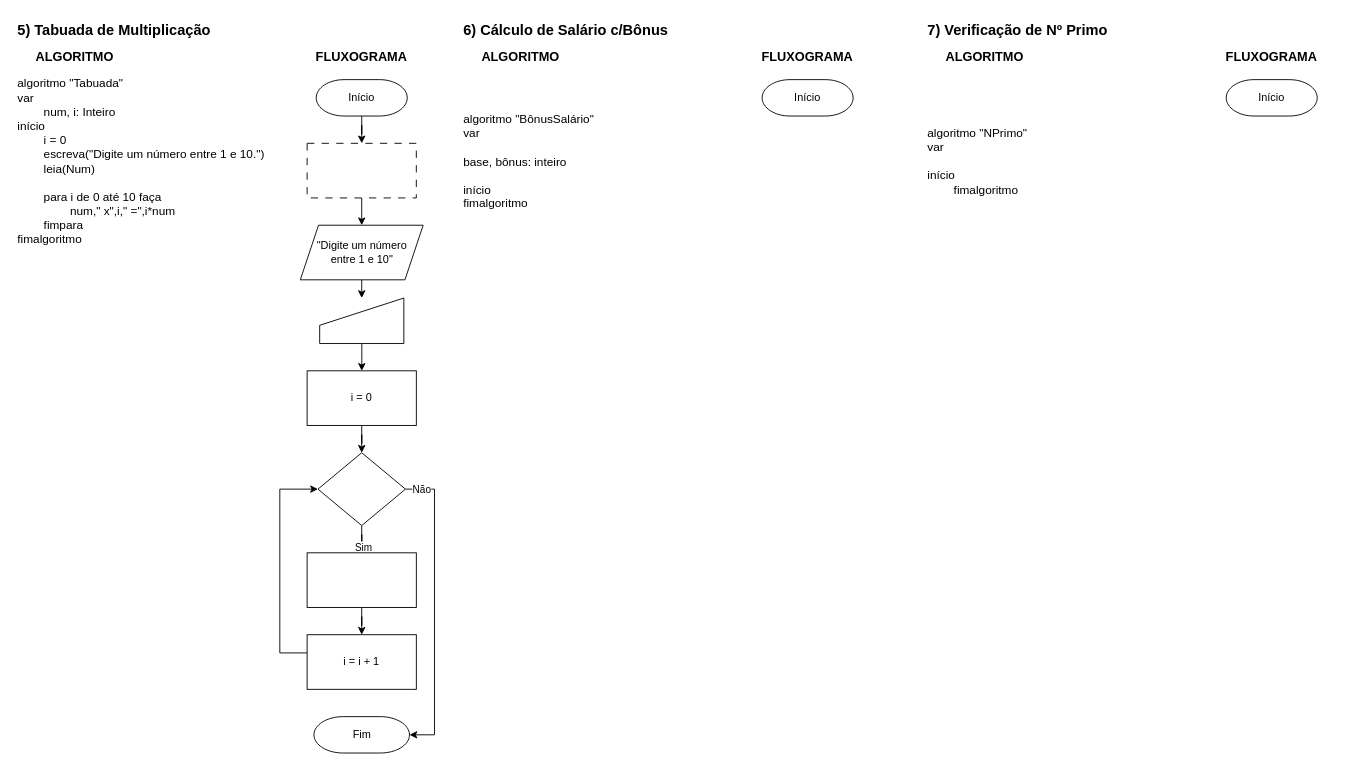
This 1346x769 diagram has some shape labels left out. The box of each missing label's shape, as (x1, y1, x2, y2) in pixels:
Escreva num, " x ", i, " = ", i * num: (306, 552, 416, 607)
i <= 10 ?: (317, 452, 405, 526)
Num: (319, 297, 404, 344)
num: int i: int: (306, 142, 416, 198)
